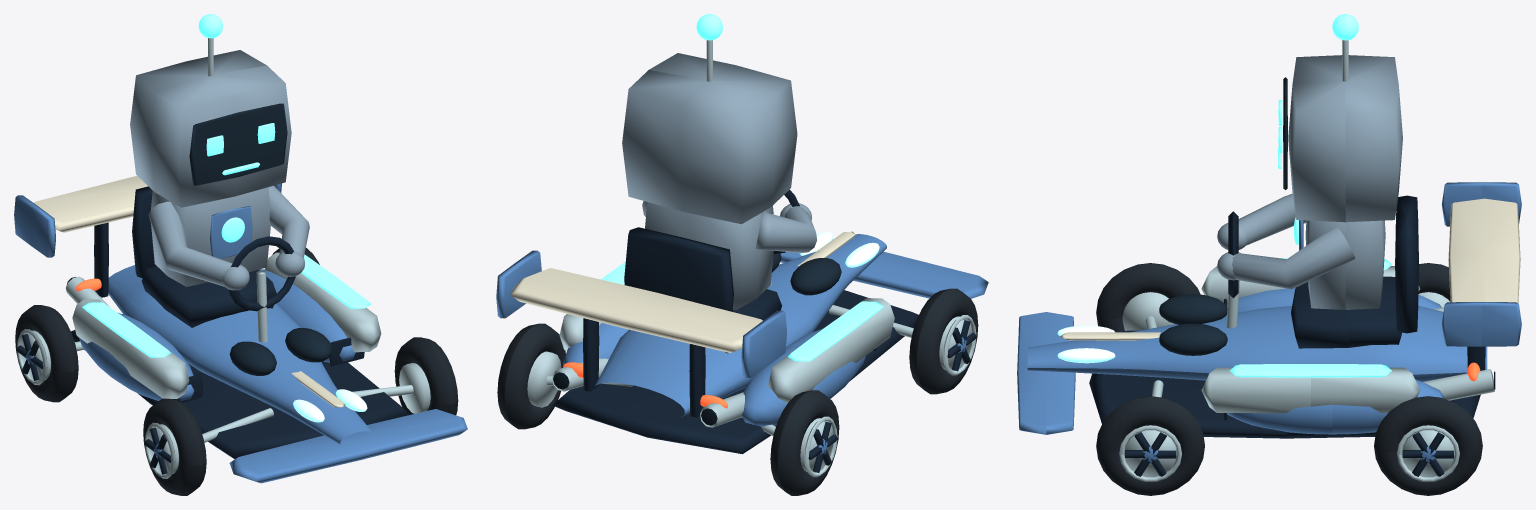
The model's file is kart_robot.glb.
3 views of the same model, side by side, from view 1: azimuth 30°, elevation 25°; view 2: azimuth 150°, elevation 25°; view 3: azimuth 270°, elevation 25° (orthographic). The views are drawn at different scales.
Visible parts, largest first — view 1: chassis_enamel_rabbit, driver_fur_robot, chassis_graphite, chassis_brushed_alloy, driver_dark_features, chassis_pearl_ivory, wheel_fl_spin_rubber, wheel_rl_spin_rubber, chassis_cyan_led, wheel_fr_spin_rubber, driver_cyan_led, driver_enamel_rabbit (+6 smaller); view 2: driver_fur_robot, chassis_enamel_rabbit, chassis_graphite, chassis_pearl_ivory, chassis_brushed_alloy, wheel_rr_spin_rubber, wheel_fl_spin_rubber, wheel_rl_spin_rubber, chassis_cyan_led, driver_dark_features, wheel_rr_spin_brushed_alloy, wheel_rl_spin_brushed_alloy (+5 smaller); view 3: chassis_enamel_rabbit, driver_fur_robot, chassis_graphite, chassis_brushed_alloy, chassis_pearl_ivory, wheel_fr_spin_rubber, wheel_rr_spin_rubber, driver_dark_features, wheel_fl_spin_rubber, chassis_cyan_led, wheel_fr_spin_brushed_alloy, wheel_rr_spin_brushed_alloy (+6 smaller).
Part boxes in pixels (left/top/right/bottom): chassis_enamel_rabbit: left=14, top=183, right=467, bottom=483; driver_fur_robot: left=130, top=50, right=309, bottom=290; chassis_graphite: left=71, top=186, right=409, bottom=459; chassis_brushed_alloy: left=66, top=252, right=413, bottom=442; driver_dark_features: left=189, top=103, right=332, bottom=375; chassis_pearl_ivory: left=34, top=176, right=345, bottom=407; wheel_fl_spin_rubber: left=143, top=398, right=206, bottom=495; wheel_rl_spin_rubber: left=15, top=305, right=78, bottom=402; chassis_cyan_led: left=82, top=254, right=371, bottom=357; wheel_fr_spin_rubber: left=394, top=337, right=458, bottom=415; driver_cyan_led: left=198, top=14, right=275, bottom=242; driver_enamel_rabbit: left=210, top=206, right=252, bottom=258; driver_fur_robot: left=622, top=53, right=816, bottom=310; chassis_enamel_rabbit: left=496, top=234, right=988, bottom=426; chassis_graphite: left=552, top=189, right=918, bottom=454; chassis_pearl_ivory: left=510, top=231, right=855, bottom=352; chassis_brushed_alloy: left=546, top=277, right=913, bottom=435; wheel_rr_spin_rubber: left=497, top=323, right=565, bottom=429; wheel_fl_spin_rubber: left=909, top=288, right=978, bottom=394; wheel_rl_spin_rubber: left=770, top=390, right=839, bottom=495; chassis_cyan_led: left=601, top=262, right=883, bottom=361; driver_dark_features: left=772, top=253, right=841, bottom=295; wheel_rr_spin_brushed_alloy: left=527, top=351, right=561, bottom=407; wheel_rl_spin_brushed_alloy: left=800, top=416, right=837, bottom=477; chassis_enamel_rabbit: left=1017, top=182, right=1521, bottom=434; driver_fur_robot: left=1217, top=55, right=1402, bottom=309; chassis_graphite: left=1089, top=195, right=1485, bottom=438; chassis_brushed_alloy: left=1145, top=266, right=1494, bottom=413; chassis_pearl_ivory: left=1060, top=198, right=1520, bottom=340; wheel_fr_spin_rubber: left=1096, top=396, right=1204, bottom=495; wheel_rr_spin_rubber: left=1374, top=396, right=1482, bottom=495; driver_dark_features: left=1159, top=77, right=1287, bottom=355; wheel_fl_spin_rubber: left=1096, top=263, right=1200, bottom=331; chassis_cyan_led: left=1229, top=258, right=1391, bottom=377; wheel_fr_spin_brushed_alloy: left=1119, top=425, right=1181, bottom=481; wheel_rr_spin_brushed_alloy: left=1397, top=425, right=1459, bottom=481.
Bounding box in the file's own units: 1.36 × 1.71 × 1.89.
